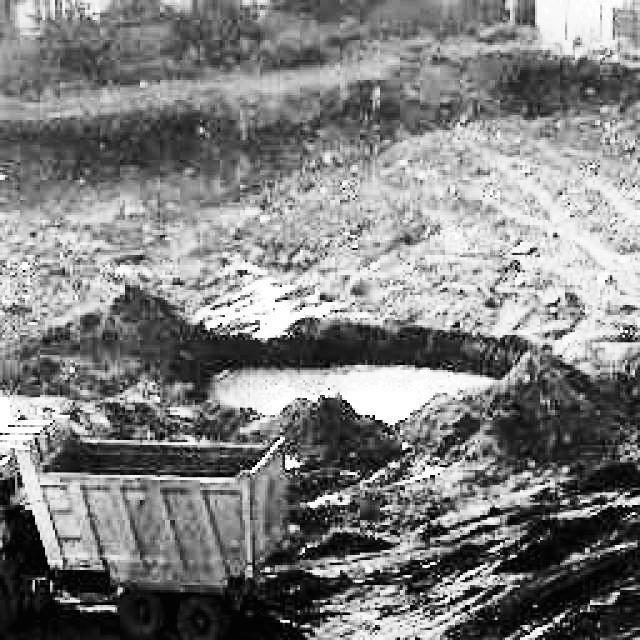Pothole: (170, 317, 543, 434)
